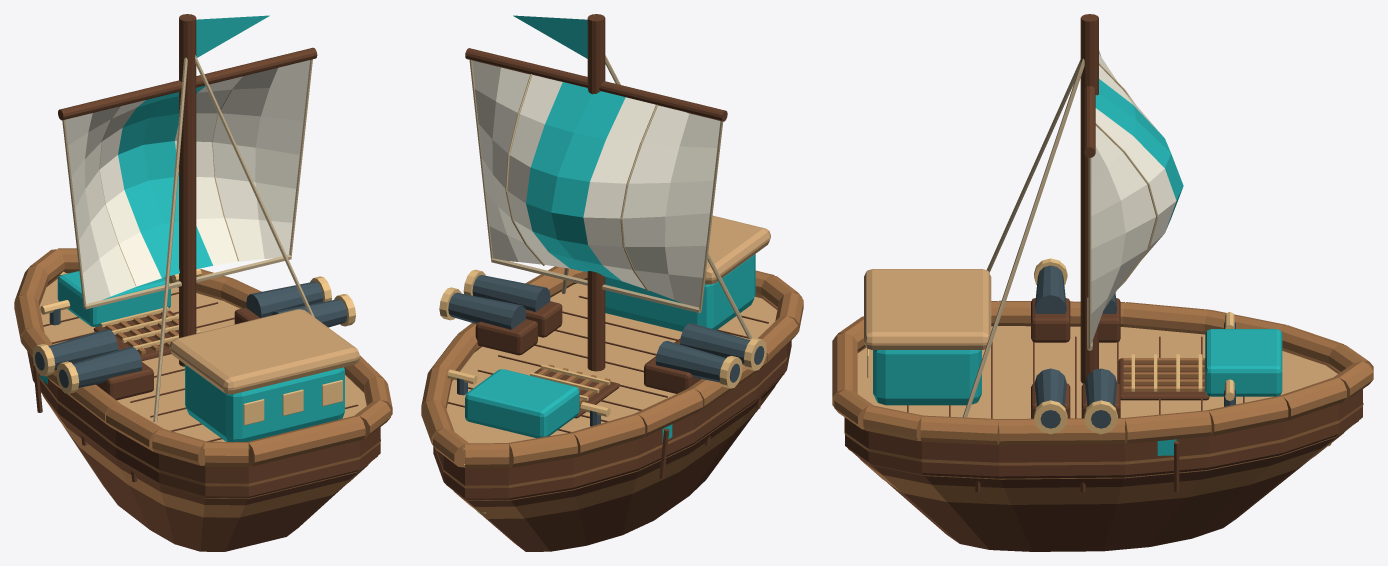
Rendered from ship-stage-2.glb.
3 renders of one model, left to right at view 1: azimuth 30°, elevation 25°; view 2: azimuth 150°, elevation 25°; view 3: azimuth 270°, elevation 25°, orthographic. The views are drawn at different scales.
Visible parts, largest first — view 1: Ship Sail ivory.001, Ship Walnut.001, Ship Hull amber.001, Ship Honey teak.001, Ship Team teal.001, Ship Rope flax.001, Ship Brass.001, Broadside barrel.002, Broadside barrel.005, Broadside barrel.003, Cannon carriage.002, Broadside barrel.004 (+2 smaller); view 2: Ship Sail ivory.001, Ship Walnut.001, Ship Hull amber.001, Ship Honey teak.001, Ship Team teal.001, Ship Rope flax.001, Broadside barrel.005, Broadside barrel.004, Broadside barrel.003, Cannon carriage.005, Broadside barrel.002, Ship Brass.001 (+4 smaller); view 3: Ship Walnut.001, Ship Hull amber.001, Ship Honey teak.001, Ship Sail ivory.001, Ship Team teal.001, Ship Rope flax.001, Broadside barrel.002, Cannon carriage.002, Ship Brass.001, Broadside barrel.005, Broadside barrel.004, Cannon carriage.003 (+1 smaller).
Part boxes in pixels (left/top/right/bottom): Ship Sail ivory.001: left=65, top=60, right=309, bottom=303; Ship Walnut.001: left=27, top=14, right=380, bottom=551; Ship Hull amber.001: left=14, top=248, right=392, bottom=517; Ship Honey teak.001: left=39, top=273, right=366, bottom=441; Ship Team teal.001: left=39, top=15, right=344, bottom=441; Ship Rope flax.001: left=62, top=55, right=314, bottom=422; Ship Brass.001: left=40, top=268, right=342, bottom=449; Broadside barrel.002: left=72, top=346, right=142, bottom=387; Broadside barrel.005: left=246, top=281, right=323, bottom=317; Broadside barrel.003: left=48, top=329, right=118, bottom=370; Cannon carriage.002: left=96, top=362, right=153, bottom=400; Broadside barrel.004: left=271, top=299, right=347, bottom=327; Ship Sail ivory.001: left=472, top=60, right=720, bottom=307; Ship Walnut.001: left=433, top=14, right=791, bottom=551; Ship Hull amber.001: left=421, top=266, right=803, bottom=518; Ship Honey teak.001: left=446, top=215, right=777, bottom=443; Ship Team teal.001: left=465, top=15, right=755, bottom=442; Ship Rope flax.001: left=469, top=55, right=752, bottom=339; Broadside barrel.005: left=448, top=292, right=526, bottom=329; Broadside barrel.004: left=472, top=275, right=550, bottom=311; Broadside barrel.003: left=655, top=340, right=726, bottom=382; Cannon carriage.005: left=475, top=319, right=537, bottom=355; Broadside barrel.002: left=680, top=323, right=750, bottom=364; Ship Brass.001: left=447, top=364, right=610, bottom=514; Ship Walnut.001: left=845, top=14, right=1362, bottom=551; Ship Hull amber.001: left=832, top=300, right=1373, bottom=504; Ship Honey teak.001: left=857, top=269, right=1337, bottom=418; Ship Sail ivory.001: left=1091, top=50, right=1183, bottom=343; Ship Team teal.001: left=873, top=329, right=1282, bottom=455; Ship Rope flax.001: left=963, top=58, right=1158, bottom=417; Broadside barrel.002: left=1034, top=265, right=1066, bottom=313; Cannon carriage.002: left=1031, top=298, right=1070, bottom=342; Ship Brass.001: left=866, top=312, right=1331, bottom=446; Broadside barrel.005: left=1085, top=368, right=1117, bottom=406; Broadside barrel.004: left=1034, top=368, right=1066, bottom=406; Cannon carriage.003: left=1099, top=298, right=1120, bottom=342.
Bounding box in the file's own units: 2.47 × 3.95 × 3.87.
